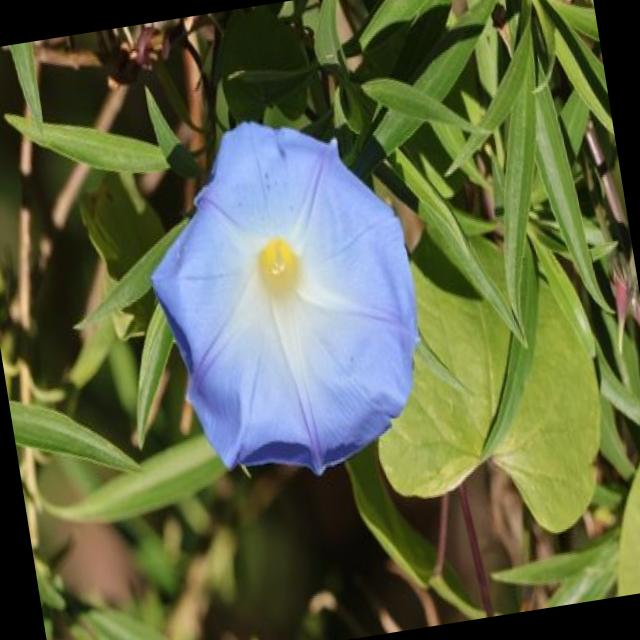ipomoea: (126, 94, 446, 500)
